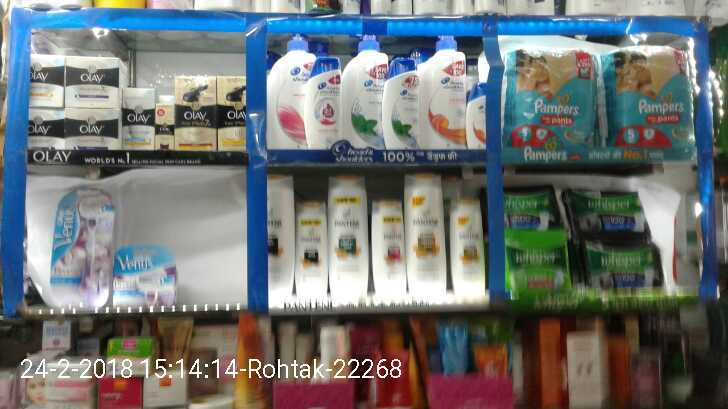venus: (54, 186, 114, 307), (115, 247, 177, 306)
